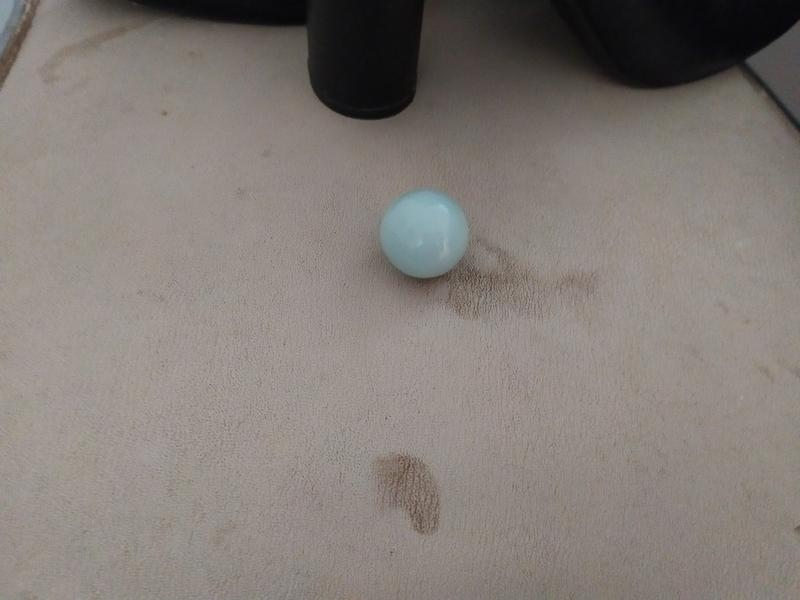Warning: (375, 184, 473, 281)
